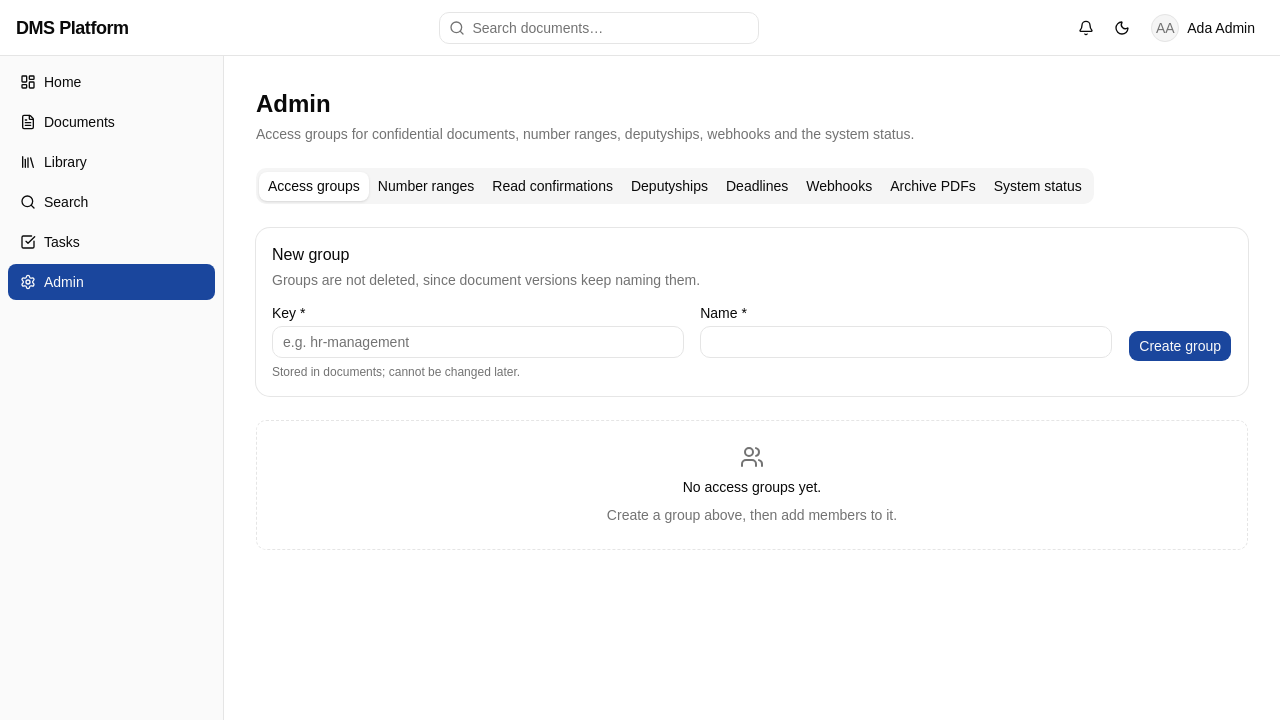
Test case: admin: webhooks (DMS-107) › lists the webhooks with a masked secret, events, classes and status
The width and height of the screenshot is (1280, 720).
Click the tab "Webhooks" at x=839, y=186, box [797,172,881,200]
(page scrolled)
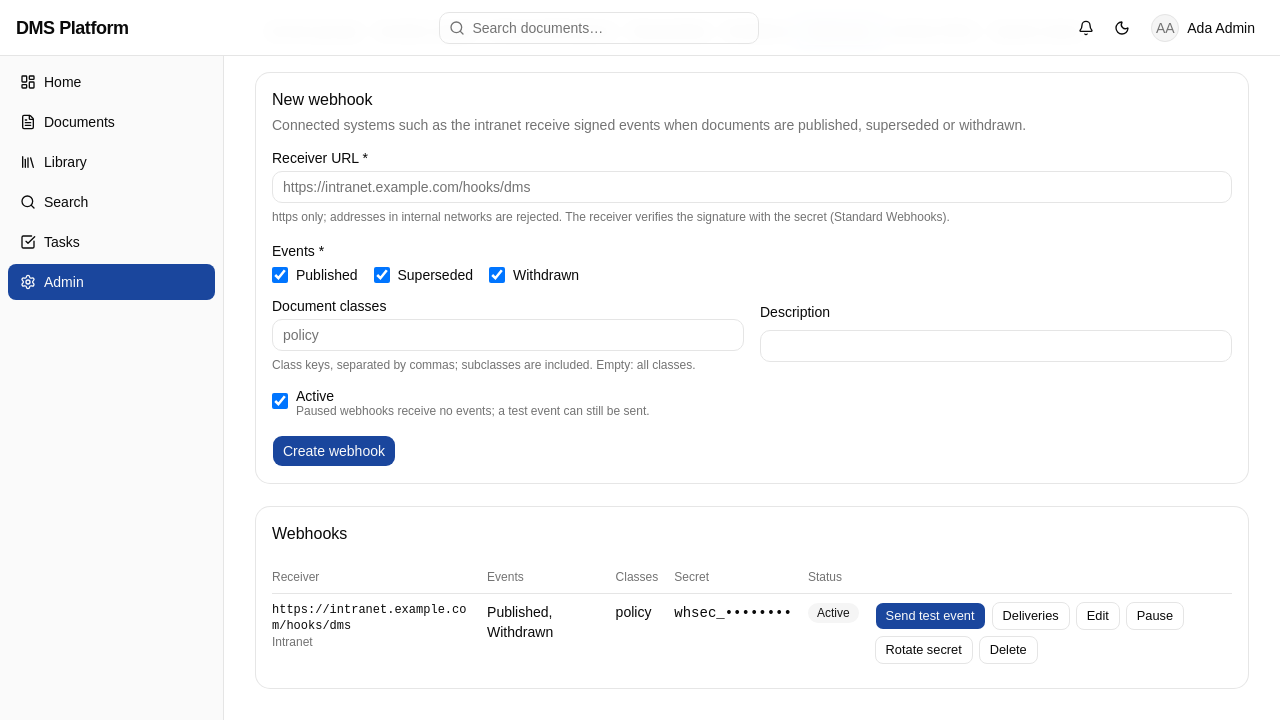
Expected: the text "https://intranet.example.com/hooks/dms" is shown, [272,602,471,634]
Expected: the text "Published, Withdrawn" is shown, [487,594,616,672]
Expected: the text "policy" is shown, [616,594,674,672]
